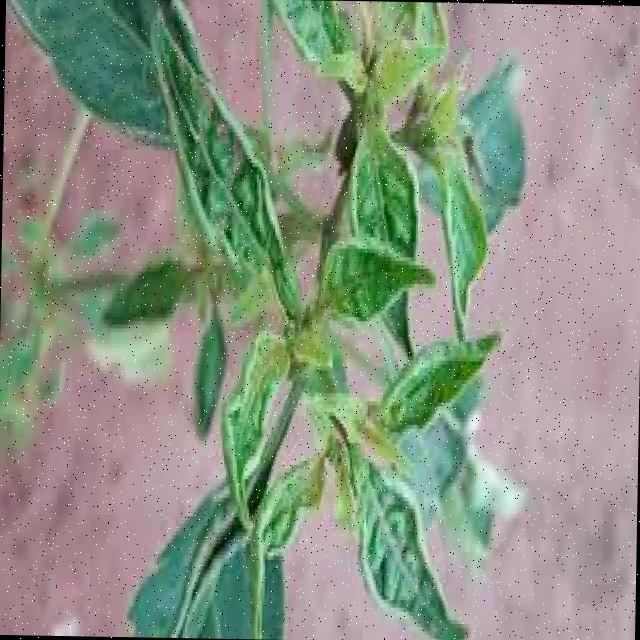leaf curl: (92, 0, 517, 640)
